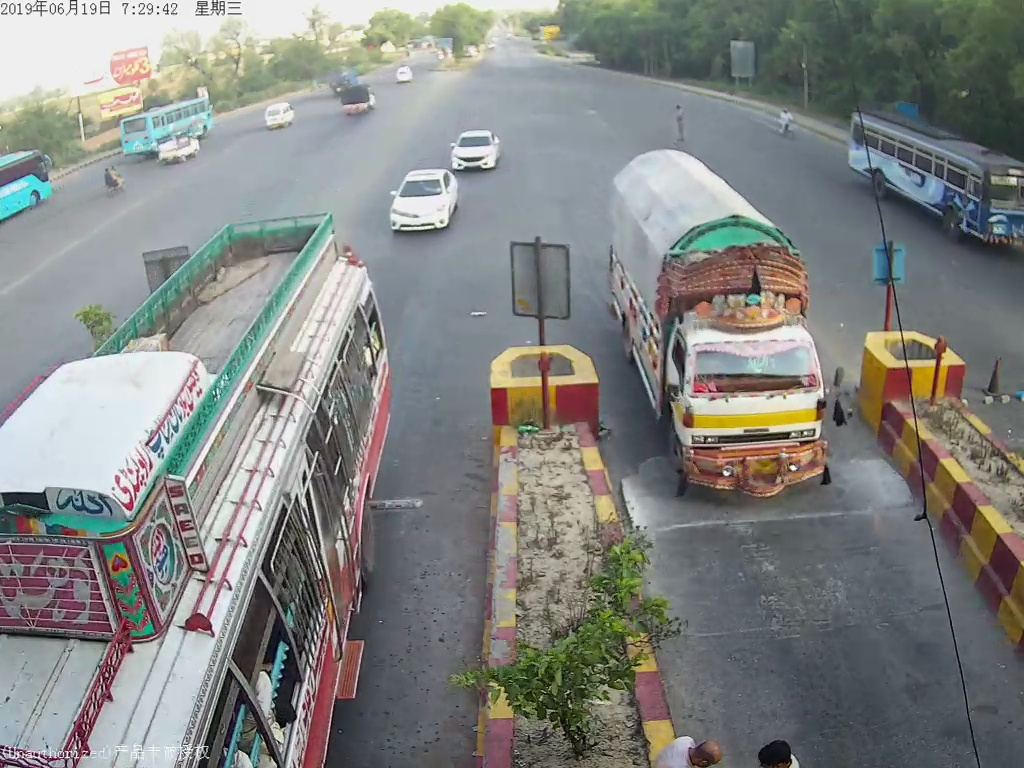Cat-1: (381, 166, 459, 240), (446, 117, 503, 172)
Cat-4: (614, 134, 859, 512)
